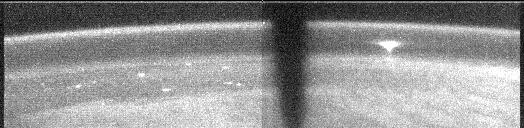positive: (380, 40, 402, 54)
